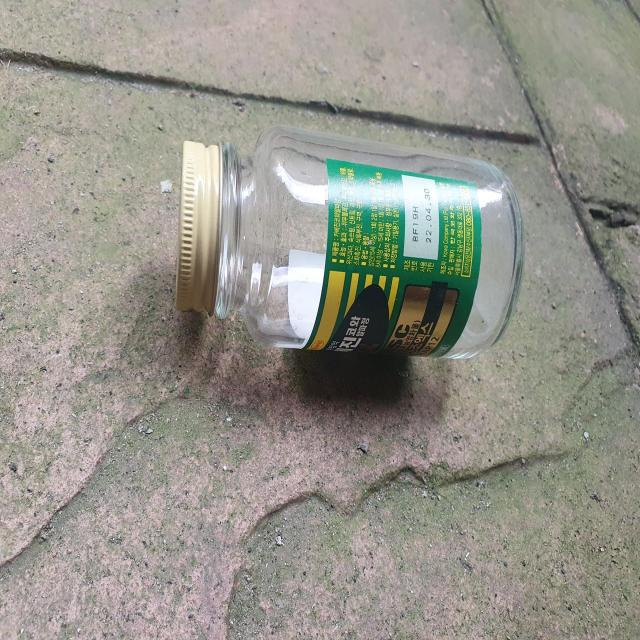glass: (177, 126, 524, 358)
